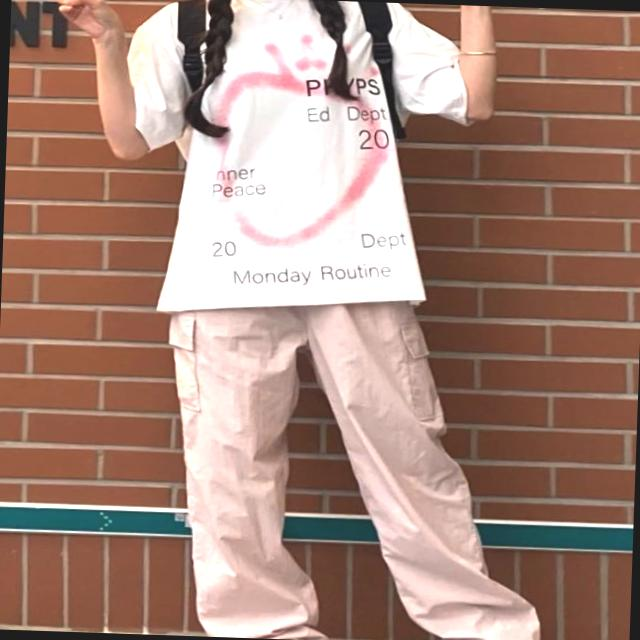cottonpants: (160, 285, 534, 640)
shortsleeve: (125, 0, 471, 323)
